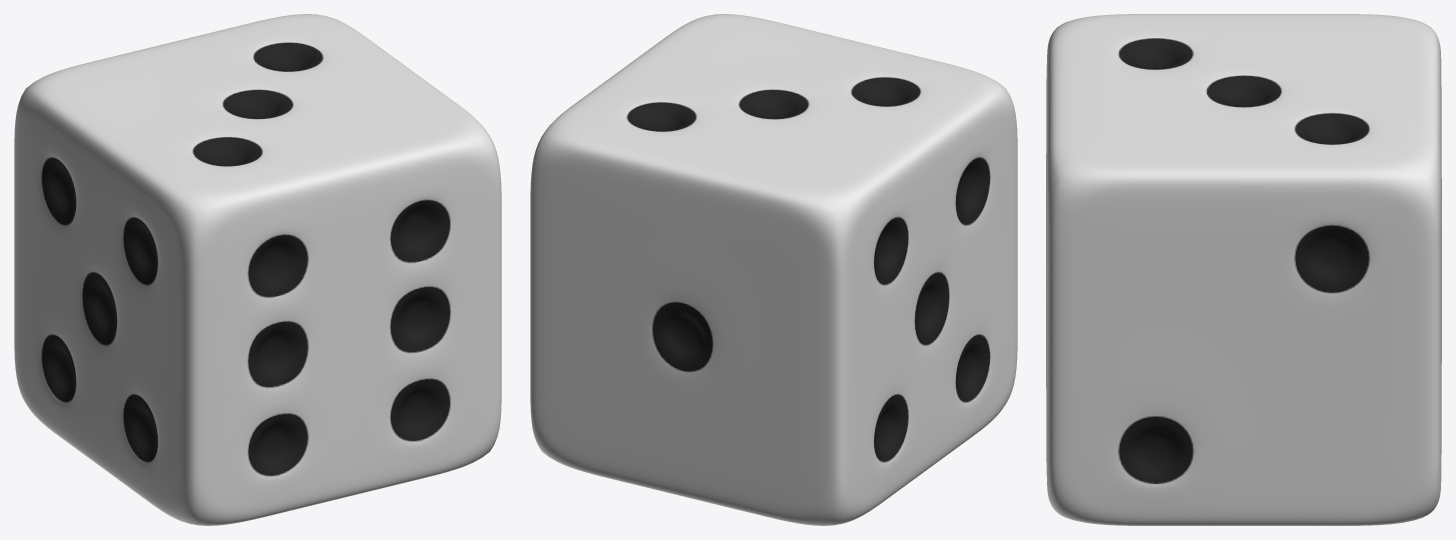
Rendered from dice.glb.
3 renders of one model, left to right at view 1: azimuth 30°, elevation 25°; view 2: azimuth 150°, elevation 25°; view 3: azimuth 270°, elevation 25°, orthographic. The views are drawn at different scales.
Visible parts, largest first — view 1: Dice_STU83DT; view 2: Dice_STU83DT; view 3: Dice_STU83DT.
Part boxes in pixels (<box>): Dice_STU83DT: <box>14,14,501,525</box>; Dice_STU83DT: <box>530,14,1017,525</box>; Dice_STU83DT: <box>1046,14,1441,525</box>.
Bounding box in the file's own units: 1.6 × 1.6 × 1.6.
Materials: 1 (1 with a texture image).
